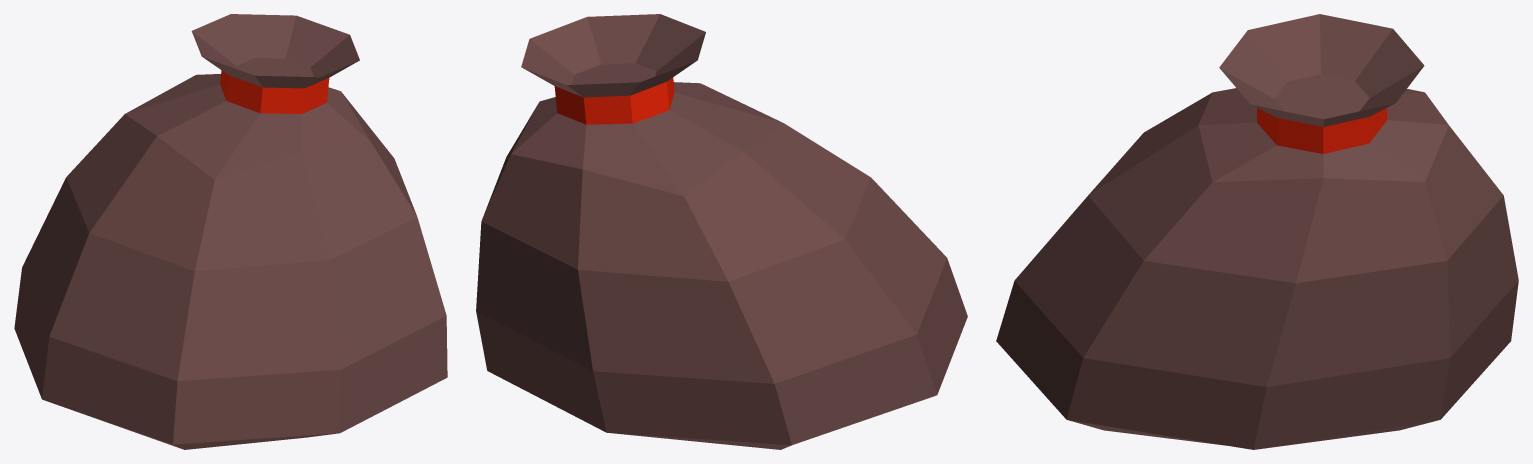
Rendered from Bolsa_Loot_color.fbx.
3 renders of one model, left to right at view 1: azimuth 30°, elevation 25°; view 2: azimuth 150°, elevation 25°; view 3: azimuth 270°, elevation 25°, orthographic. The views are drawn at different scales.
Visible parts, largest first — view 1: Bolsa_Dinero; view 2: Bolsa_Dinero; view 3: Bolsa_Dinero.
Part boxes in pixels (box(x1,y1,x2,y2)): Bolsa_Dinero: box(14, 14, 447, 449); Bolsa_Dinero: box(476, 14, 967, 449); Bolsa_Dinero: box(996, 14, 1518, 449).
Size of the model in its own units: 11.32 by 8.82 by 11.34.
